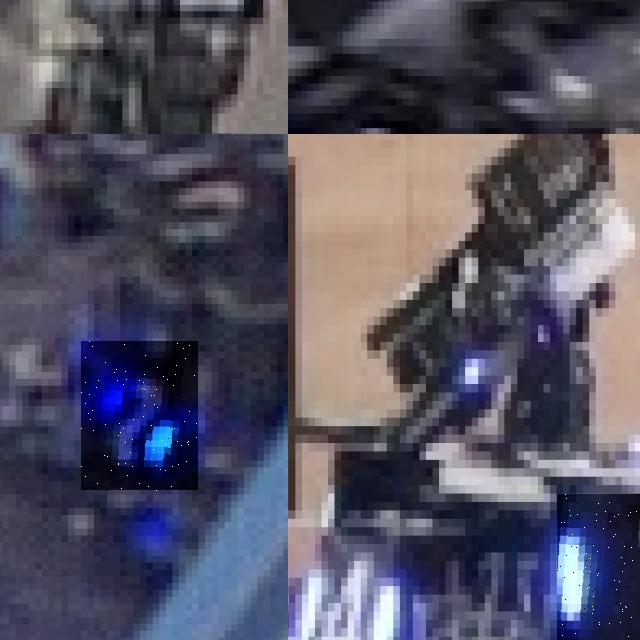B2: (81, 342, 198, 492)
B3: (556, 493, 640, 640)
B4: (289, 535, 400, 640)
